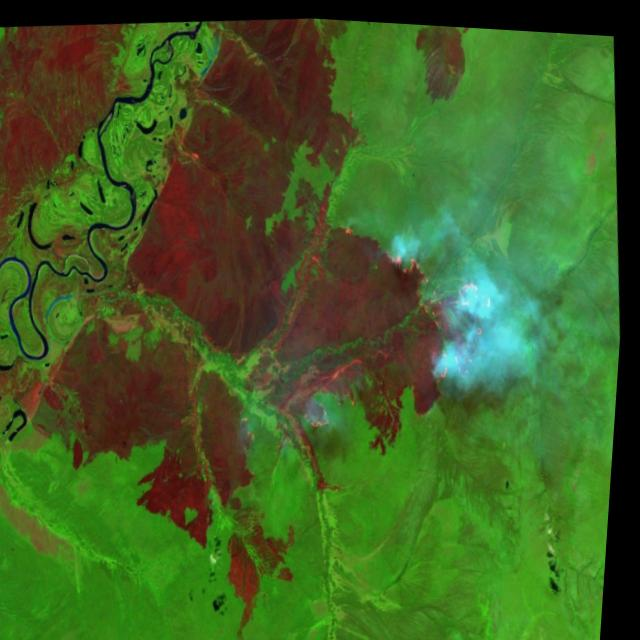fire: (290, 193, 514, 436)
